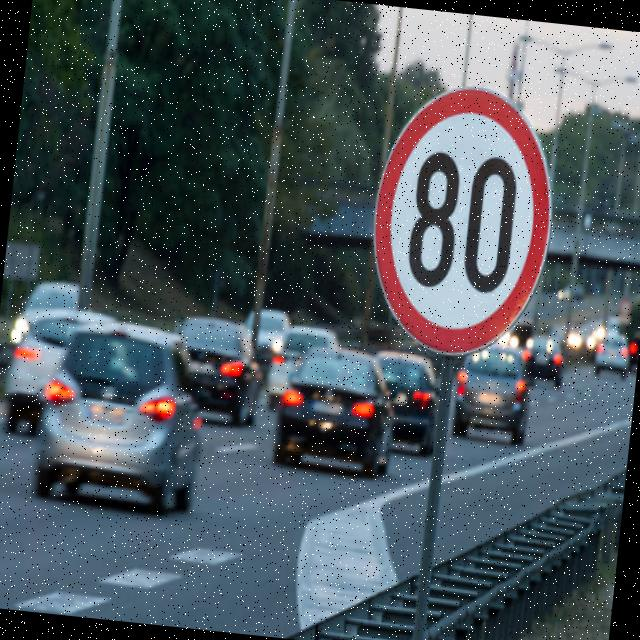speed_limit_80: (354, 63, 569, 368)
